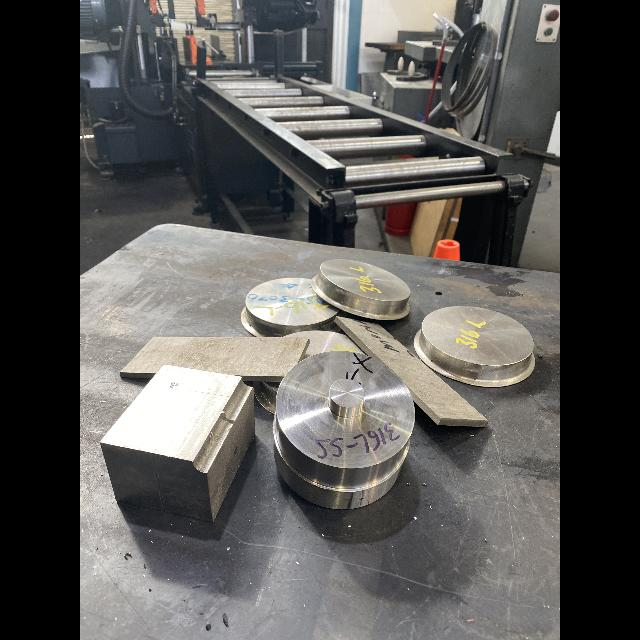Stainless Steel: (100, 365, 255, 522), (273, 351, 415, 510), (335, 317, 488, 427), (414, 305, 535, 387), (120, 337, 310, 382), (241, 278, 347, 337), (312, 259, 410, 320), (282, 330, 367, 359), (253, 381, 279, 414)
